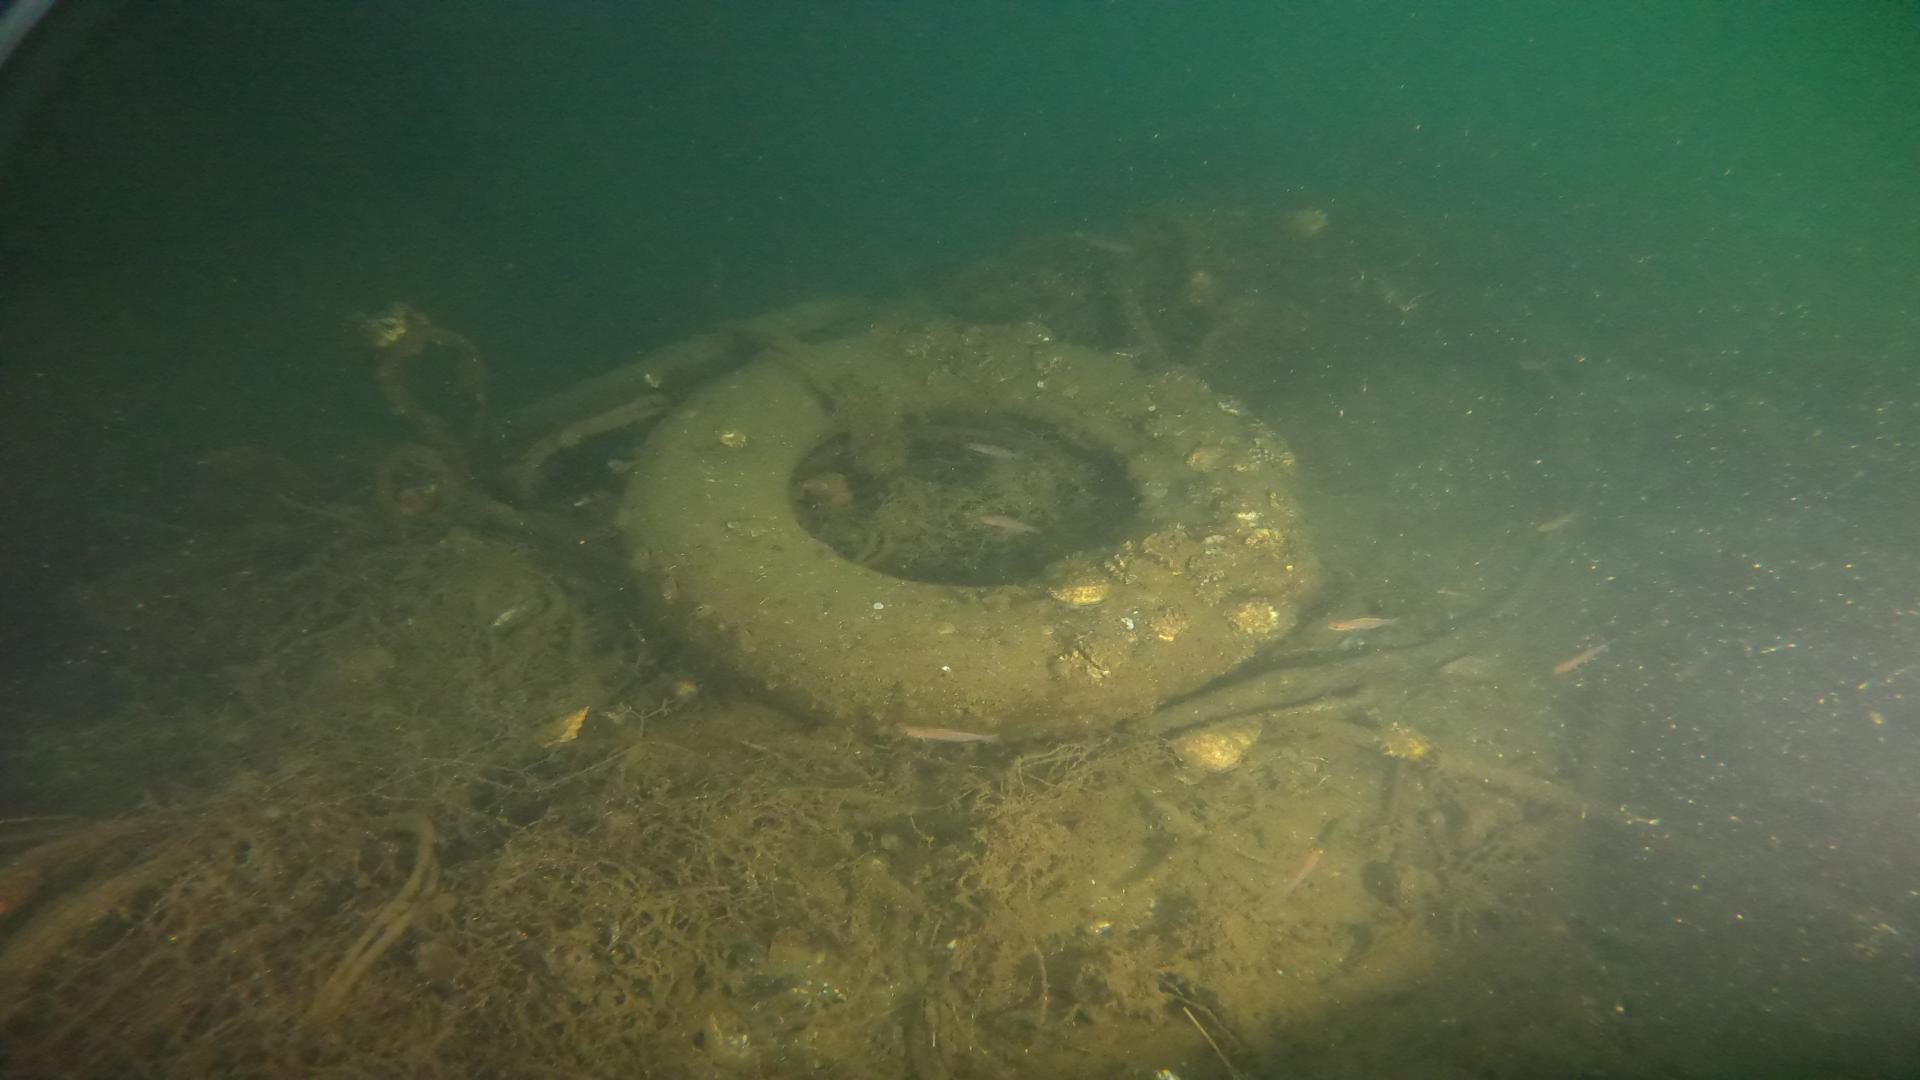tire: (615, 324, 1305, 753)
